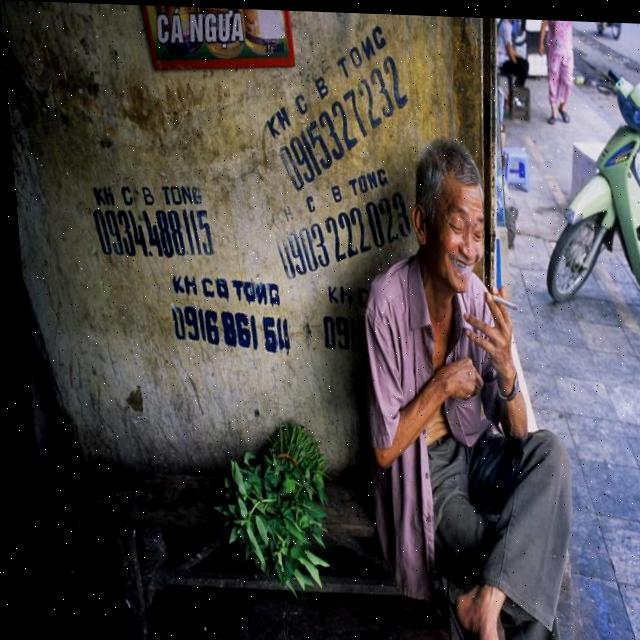cigarette: (481, 287, 513, 307)
